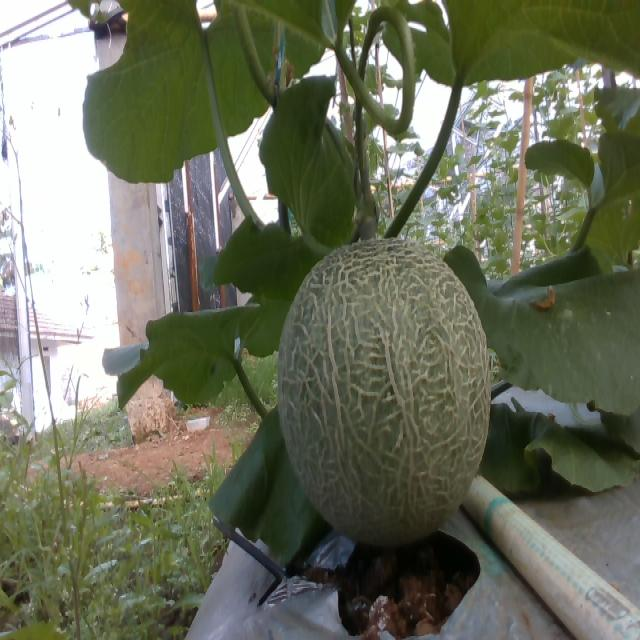melon: (279, 240, 490, 546)
